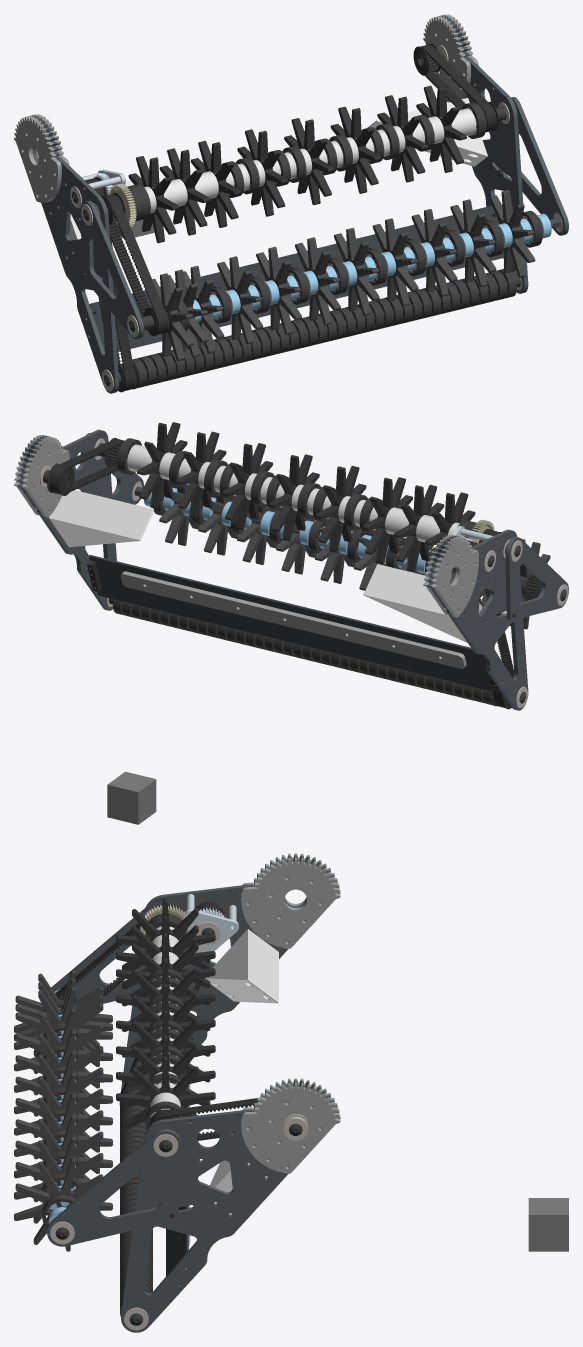
3 renders of one model, top to bottom at view 1: azimuth 30°, elevation 25°; view 2: azimuth 150°, elevation 25°; view 3: azimuth 270°, elevation 25°, orthographic. The views are drawn at different scales.
Parts seen in each view (by area): view 1: WCP-0406 (×11), 5" Star Flex Wheel (30A, 1/2" Hex Stretch Bore) (×8), 4322-IN-05-INNERPLATE (×2), 4322-IN-06-OUTERPLATE (×2), 4322-IN-01-OUTERGEAR (×2), 4322-IN-13-GUIDE, 95T 5M 15mm Wide Belt, 90T 5M 15mm Wide Belt, 130T 5M 15mm Wide Belt, 4322-IN-12-FUNNEL, 48t 20dp Aluminum 1/2" Hex Bore Pocketed Gear (WCP-0137), 24t Aluminum Pulley (HTD 5mm, 15mm Wide, 1/2" Hex Bore); view 2: 5" Star Flex Wheel (30A, 1/2" Hex Stretch Bore) (×8), 4322-IN-13-GUIDE, 4322-IN-05-INNERPLATE (×2), 4322-IN-12-FUNNEL (×2), 4322-IN-14-GUIDE_SUPPORT, WCP-0406 (×6), 4322-IN-01-OUTERGEAR (×2), 4322-IN-06-OUTERPLATE (×2), Origin Cube, 90T 5M 15mm Wide Belt, 130T 5M 15mm Wide Belt; view 3: 4322-IN-05-INNERPLATE (×2), WCP-0406 (×11), 5" Star Flex Wheel (30A, 1/2" Hex Stretch Bore) (×8), 4322-IN-01-OUTERGEAR (×2), 4322-IN-06-OUTERPLATE (×2), 4322-IN-12-FUNNEL, Origin Cube, 90T 5M 15mm Wide Belt, 4322-IN-08-TRIANGULAR_SUPPORT, 4322-IN-13-GUIDE, 95T 5M 15mm Wide Belt.
Part boxes in pixels (x1,y1,x2,y2): WCP-0406 (×11): (147,190,535,360); 5" Star Flex Wheel (30A, 1/2" Hex Stretch Bore) (×8): (128,85,466,243); 4322-IN-05-INNERPLATE (×2): (41,57,528,393); 4322-IN-06-OUTERPLATE (×2): (80,97,568,339); 4322-IN-01-OUTERGEAR (×2): (14,16,470,202); 4322-IN-13-GUIDE: (89,205,503,351); 95T 5M 15mm Wide Belt: (105,194,168,334); 90T 5M 15mm Wide Belt: (420,44,496,132); 130T 5M 15mm Wide Belt: (86,178,135,390); 4322-IN-12-FUNNEL: (367,98,487,166); 48t 20dp Aluminum 1/2" Hex Bore Pocketed Gear (WCP-0137): (108,183,136,227); 24t Aluminum Pulley (HTD 5mm, 15mm Wide, 1/2" Hex Bore): (413,43,440,75); 5" Star Flex Wheel (30A, 1/2" Hex Stretch Bore) (×8): (137,422,475,571); 4322-IN-13-GUIDE: (89,555,502,693); 4322-IN-05-INNERPLATE (×2): (36,429,528,710); 4322-IN-12-FUNNEL (×2): (49,490,482,642); 4322-IN-14-GUIDE_SUPPORT: (120,571,466,668); WCP-0406 (×6): (159,484,386,590); 4322-IN-01-OUTERGEAR (×2): (21,436,478,617); 4322-IN-06-OUTERPLATE (×2): (80,433,568,620); Origin Cube: (107,771,156,824); 90T 5M 15mm Wide Belt: (49,438,124,494); 130T 5M 15mm Wide Belt: (470,542,514,707); 4322-IN-05-INNERPLATE (×2): (121,884,288,1332); WCP-0406 (×11): (14,970,112,1251); 5" Star Flex Wheel (30A, 1/2" Hex Stretch Bore) (×8): (116,898,215,1130); 4322-IN-01-OUTERGEAR (×2): (241,857,340,1173); 4322-IN-06-OUTERPLATE (×2): (47,907,181,1246); 4322-IN-12-FUNNEL: (205,929,278,1003); Origin Cube: (528,1198,568,1251); 90T 5M 15mm Wide Belt: (149,1097,260,1140); 4322-IN-08-TRIANGULAR_SUPPORT: (184,909,238,952); 4322-IN-13-GUIDE: (166,1047,188,1276); 95T 5M 15mm Wide Belt: (55,905,174,998).
Bounding box in the file's own units: 0.7163 × 0.3797 × 0.6966.
